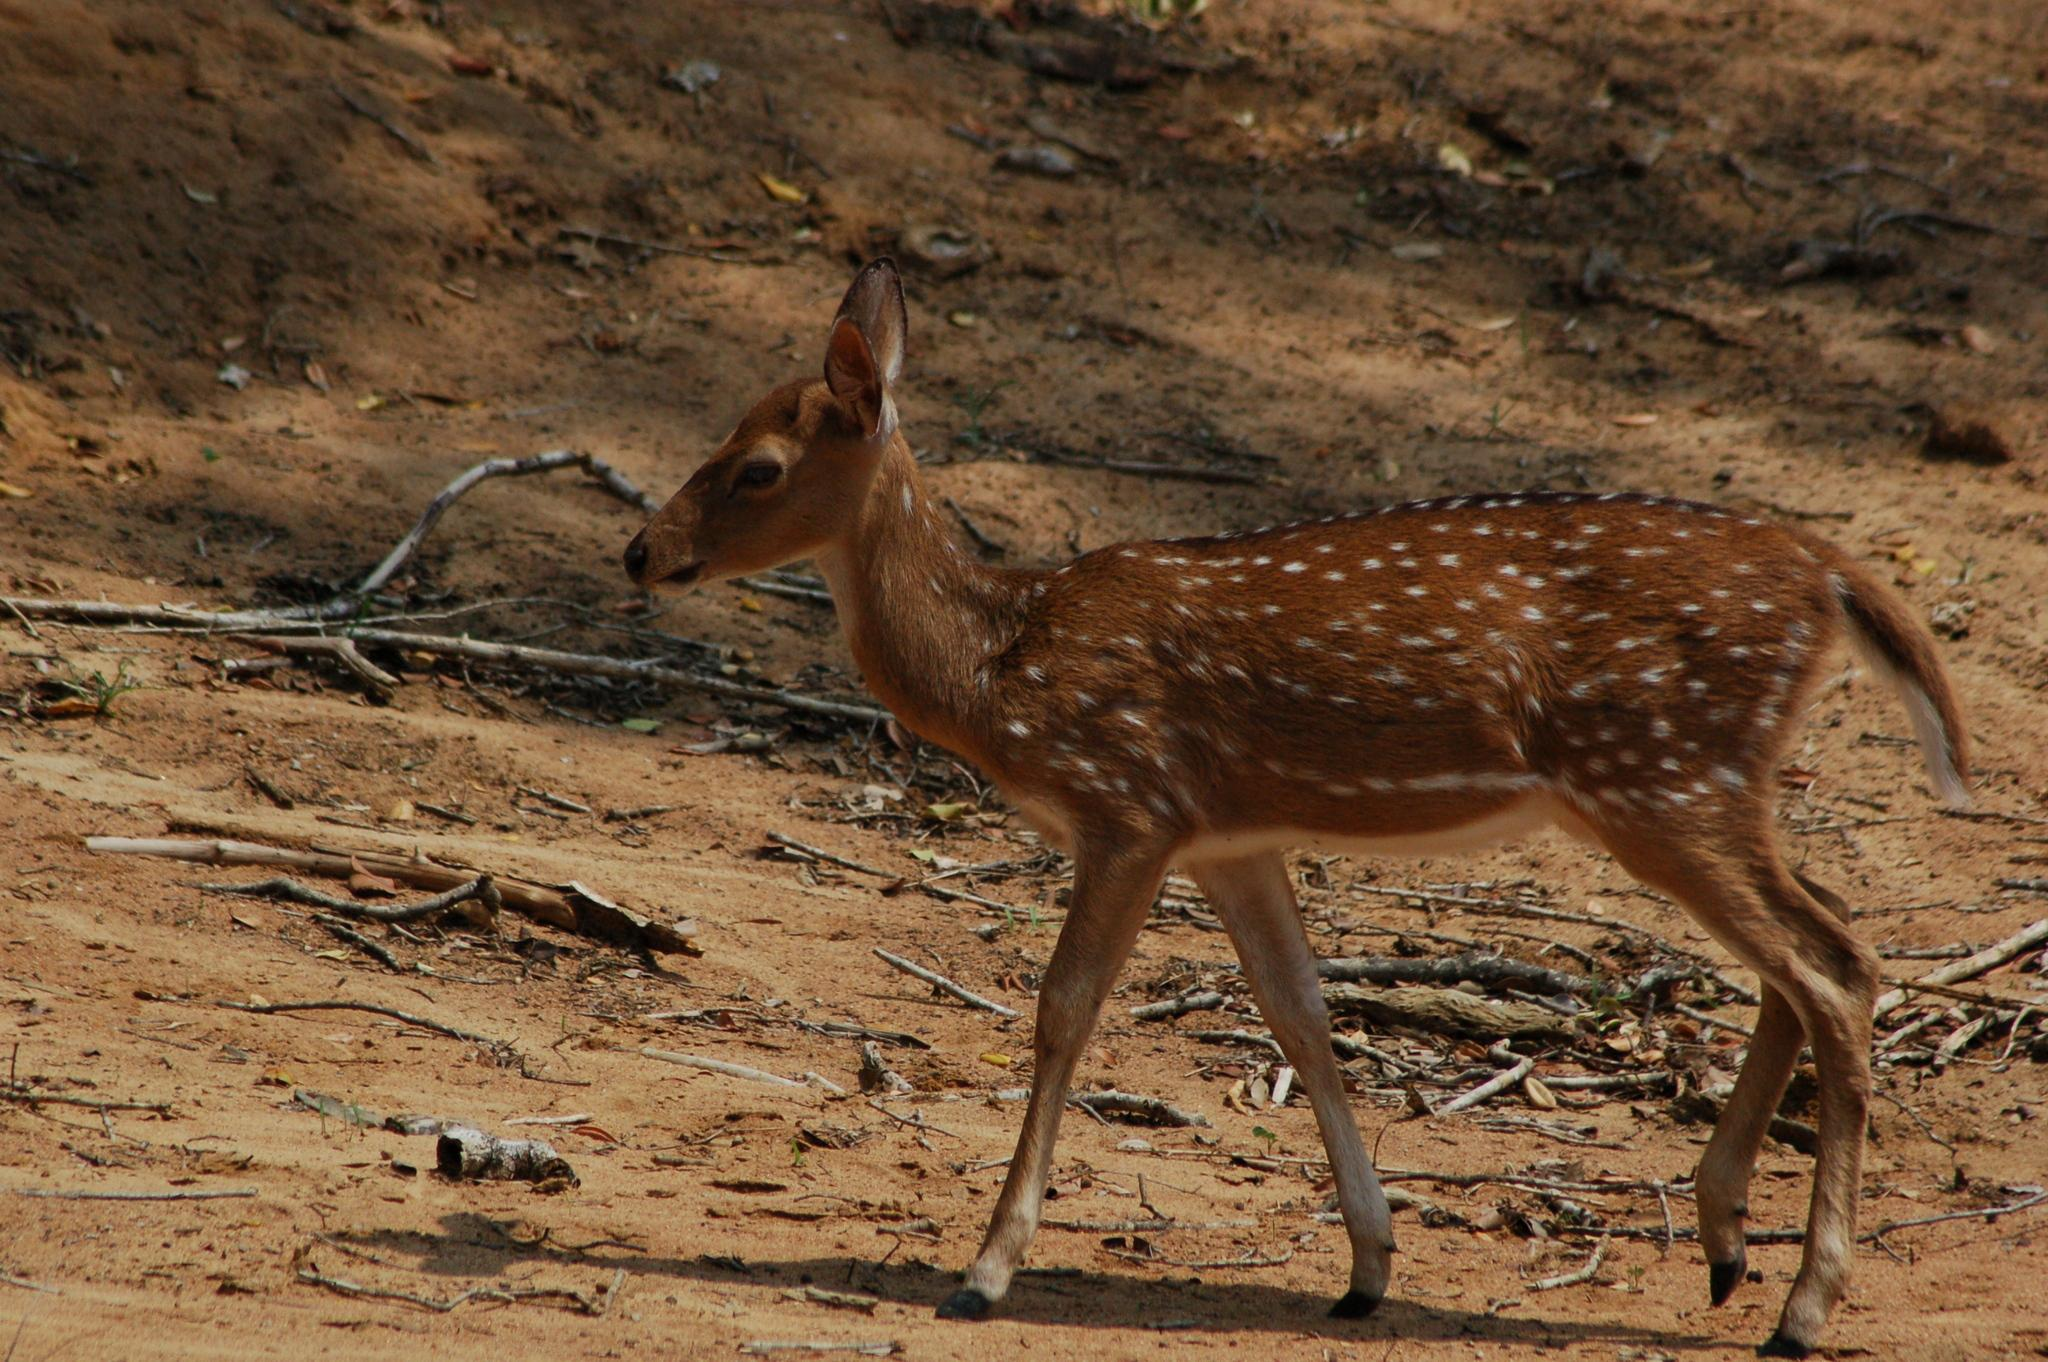Deer: (624, 264, 1971, 1348)
